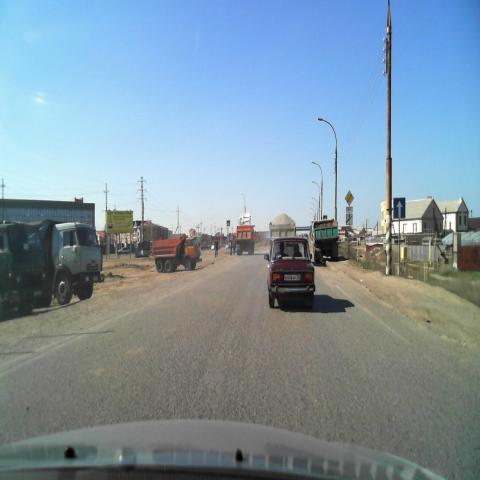2_2: (346, 191, 354, 206)
